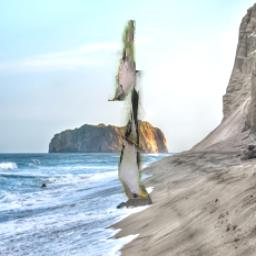Cuckoo: (119, 71, 149, 200), (109, 20, 137, 101)
